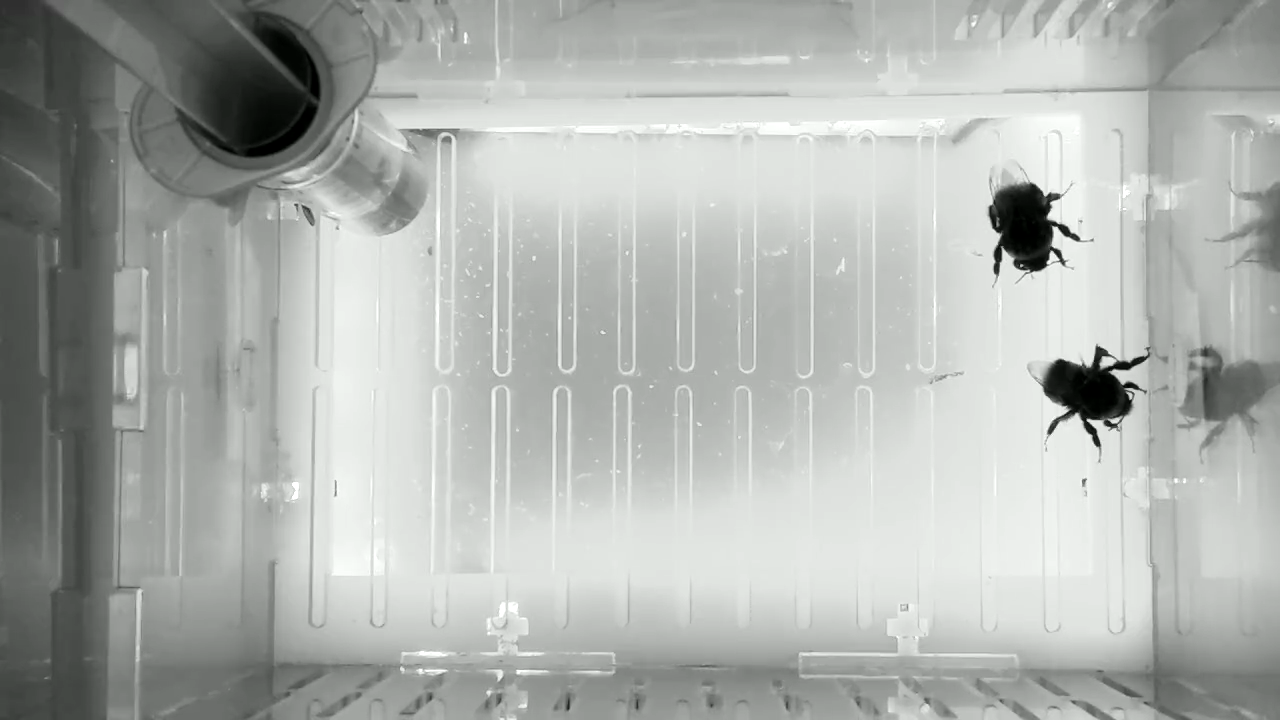bee: (1018, 339, 1161, 469), (977, 153, 1098, 293), (280, 198, 336, 231)
feeder: (282, 98, 433, 240)
